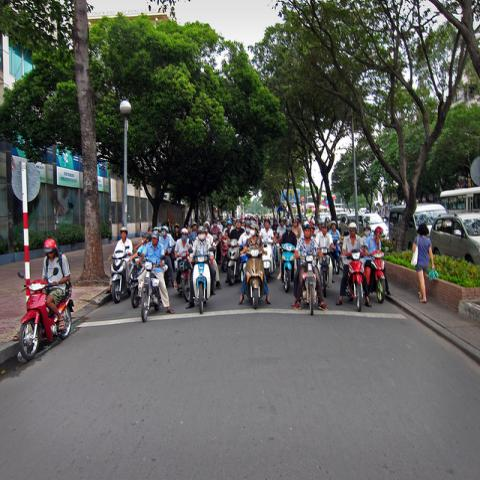bus: (441, 186, 479, 213)
car: (389, 203, 449, 250), (430, 212, 479, 266), (363, 214, 389, 240), (358, 216, 366, 233)
motorcycle: (161, 230, 348, 301), (17, 267, 76, 364), (139, 256, 166, 323), (342, 239, 366, 313), (241, 244, 266, 308), (298, 252, 323, 315), (107, 246, 130, 304), (366, 249, 390, 303), (192, 255, 211, 315), (128, 261, 146, 309), (278, 244, 296, 292), (181, 259, 194, 310), (228, 239, 241, 286), (242, 256, 248, 284)
